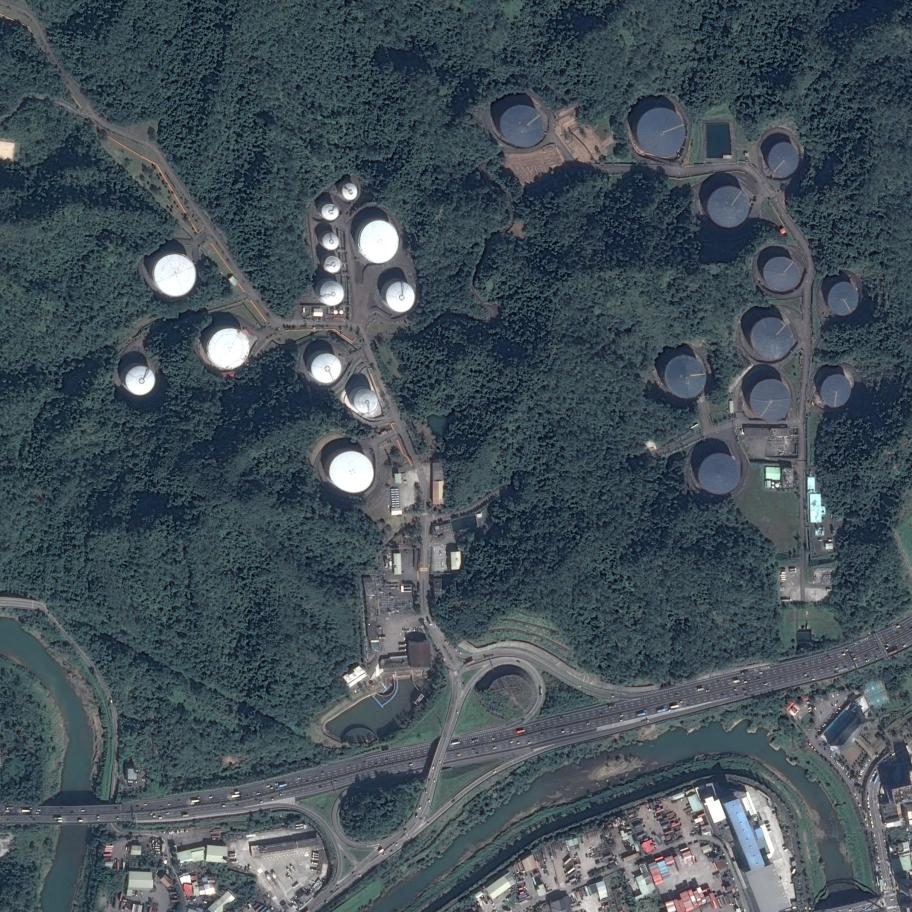large-vehicle: (651, 832, 662, 843), (888, 649, 898, 657), (465, 660, 475, 667), (277, 783, 287, 788), (484, 654, 494, 659), (488, 899, 495, 906), (874, 775, 879, 783), (608, 704, 616, 709), (670, 705, 679, 709), (451, 741, 460, 745), (516, 730, 525, 734), (293, 883, 299, 889), (231, 794, 240, 798), (191, 800, 200, 804), (657, 709, 665, 713), (741, 671, 749, 675), (641, 720, 649, 724), (291, 865, 296, 871), (733, 679, 740, 683), (399, 643, 406, 647), (782, 599, 791, 602), (636, 713, 645, 716), (287, 869, 292, 874), (247, 866, 251, 872), (399, 649, 407, 652), (789, 568, 796, 571), (229, 853, 236, 856), (312, 858, 319, 861), (311, 869, 318, 872), (182, 814, 189, 817), (55, 817, 62, 820), (22, 810, 32, 812), (698, 688, 704, 691), (230, 856, 236, 859), (313, 852, 319, 855), (540, 688, 542, 697), (789, 571, 796, 573), (231, 861, 238, 863), (312, 855, 319, 857), (312, 862, 318, 864), (379, 637, 385, 639)
small-vehicle: (852, 657, 857, 661), (7, 807, 13, 810), (472, 739, 478, 742), (892, 752, 896, 756), (312, 880, 316, 884), (869, 778, 873, 782), (382, 853, 386, 857), (493, 770, 497, 774), (865, 659, 870, 662), (896, 625, 901, 628), (705, 689, 710, 692), (611, 695, 616, 698), (320, 771, 325, 774), (890, 898, 894, 901), (903, 644, 907, 647), (528, 741, 532, 744), (493, 746, 497, 749), (578, 685, 582, 688), (808, 707, 812, 710), (517, 742, 521, 745), (586, 722, 590, 725), (620, 714, 624, 717), (733, 688, 737, 691), (743, 689, 747, 692), (812, 678, 816, 681), (846, 771, 849, 775), (874, 770, 877, 774), (374, 762, 378, 765), (384, 758, 388, 761), (259, 800, 263, 803), (333, 780, 337, 783), (308, 879, 312, 882), (419, 806, 422, 810), (359, 874, 363, 877), (395, 843, 398, 847), (416, 814, 419, 818), (428, 778, 431, 782), (432, 766, 435, 770), (439, 760, 442, 764), (452, 800, 455, 804), (409, 763, 413, 766), (270, 787, 274, 790), (152, 815, 156, 818), (158, 817, 162, 820), (209, 796, 213, 799), (58, 820, 63, 822), (235, 792, 240, 794), (851, 653, 854, 656), (845, 648, 848, 651), (842, 653, 845, 656), (765, 683, 768, 686), (809, 710, 812, 713), (60, 807, 63, 810), (405, 829, 408, 832), (872, 774, 875, 777), (390, 850, 393, 853), (267, 785, 270, 788), (759, 672, 763, 674), (744, 681, 748, 683), (510, 741, 514, 743), (561, 731, 565, 733), (680, 701, 684, 703), (457, 754, 461, 756), (457, 710, 459, 714), (97, 819, 101, 821), (79, 820, 83, 822), (97, 816, 101, 818), (159, 807, 163, 809), (81, 810, 85, 812), (37, 809, 41, 811), (831, 753, 833, 757), (834, 702, 836, 706), (471, 749, 475, 751), (315, 777, 319, 779), (869, 809, 871, 813), (279, 794, 283, 796), (867, 796, 869, 800), (434, 779, 436, 783), (256, 793, 260, 795), (149, 813, 153, 815), (167, 804, 171, 806), (165, 813, 169, 815), (571, 731, 574, 733), (835, 668, 838, 670), (745, 694, 747, 697), (804, 674, 807, 676), (492, 738, 495, 740), (114, 808, 117, 810), (70, 812, 73, 814), (117, 818, 120, 820), (36, 812, 39, 814), (178, 800, 181, 802), (319, 786, 322, 788), (271, 799, 274, 801), (420, 818, 422, 821), (429, 800, 431, 803), (426, 789, 428, 792), (867, 801, 869, 804), (868, 805, 870, 808), (871, 821, 873, 824), (872, 825, 874, 828), (222, 805, 225, 807), (6, 811, 9, 812), (136, 806, 139, 807), (298, 778, 301, 779), (275, 784, 278, 785), (870, 813, 871, 816), (144, 804, 147, 805)
storage-tank: (638, 105, 687, 160), (150, 250, 198, 300), (501, 99, 546, 151), (329, 451, 376, 498), (697, 449, 741, 497), (748, 378, 793, 423), (751, 315, 794, 361), (357, 220, 400, 265), (664, 353, 709, 396), (207, 330, 250, 373), (761, 254, 804, 295), (707, 185, 750, 226), (766, 139, 800, 180), (816, 372, 851, 409), (311, 348, 344, 387), (827, 280, 860, 315), (385, 280, 417, 314), (126, 367, 156, 396), (319, 279, 345, 309), (354, 387, 379, 417), (340, 181, 361, 202), (321, 202, 340, 223), (325, 255, 343, 274), (322, 231, 340, 250)
